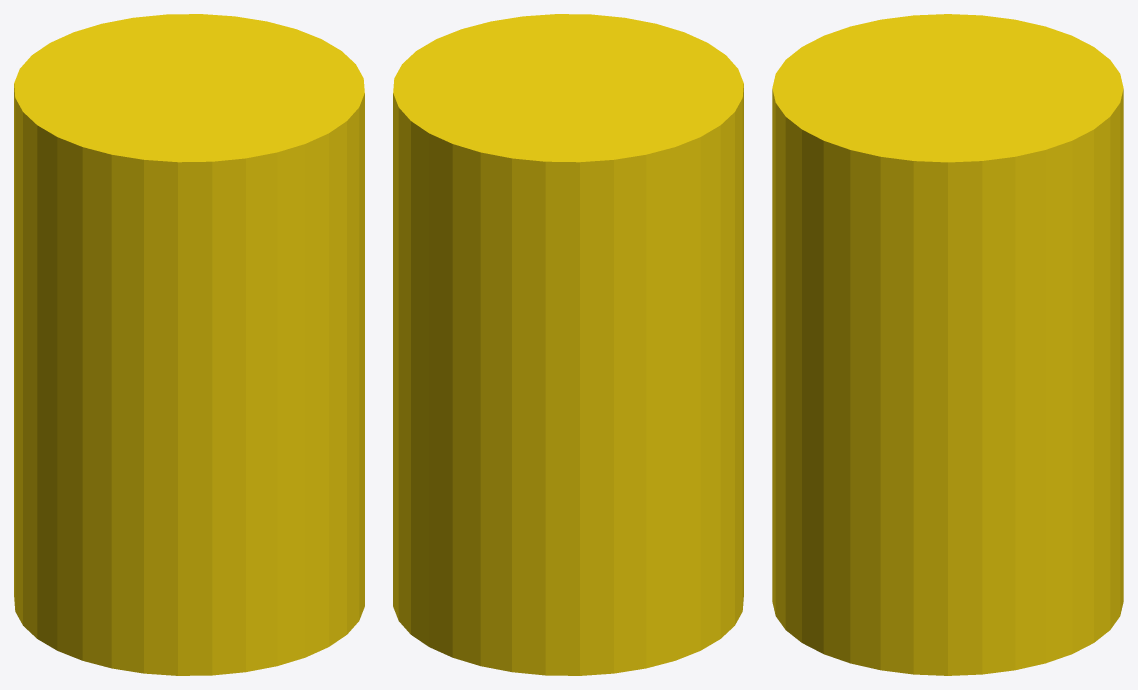
Rendered from torso_1_hcrmi.dae.
3 renders of one model, left to right at view 1: azimuth 30°, elevation 25°; view 2: azimuth 150°, elevation 25°; view 3: azimuth 270°, elevation 25°, orthographic.
Visible parts, largest first — view 1: Cylinder; view 2: Cylinder; view 3: Cylinder.
Part boxes in pixels (box(x1,y1,x2,y2)): Cylinder: box(14, 14, 364, 675); Cylinder: box(393, 14, 743, 675); Cylinder: box(772, 14, 1123, 675).
Bounding box in the file's own units: 0.093 × 0.093 × 0.15.
